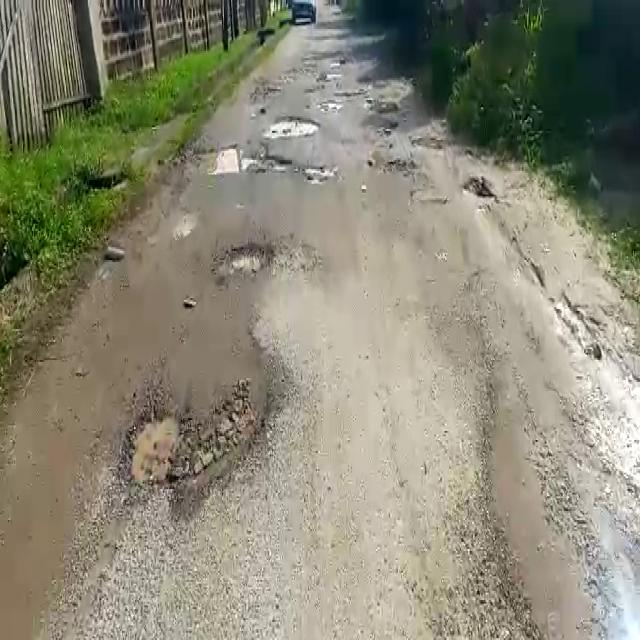Pothole: (110, 375, 286, 508), (194, 145, 298, 176), (214, 239, 276, 278), (262, 114, 320, 138), (301, 166, 334, 184)
